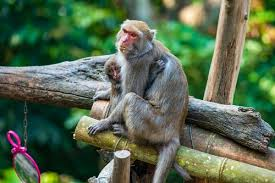monkey: (93, 18, 206, 153), (79, 46, 145, 102)
